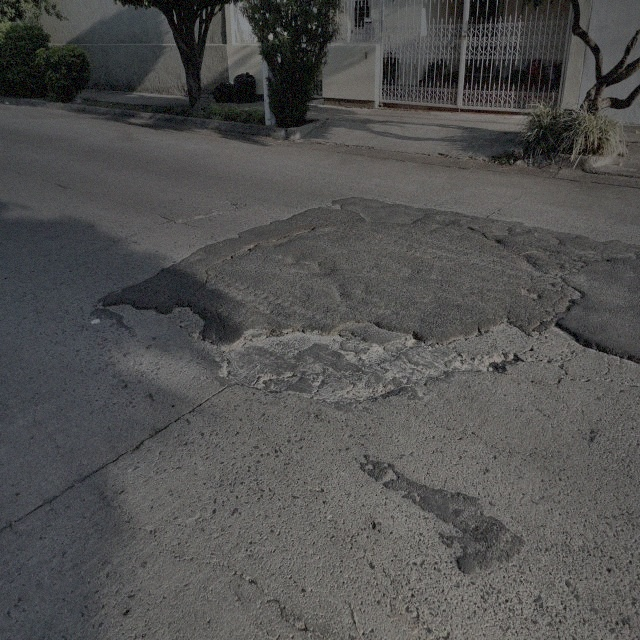pothole: (338, 383, 403, 408), (457, 351, 523, 374), (168, 306, 206, 344), (257, 372, 297, 389), (518, 285, 542, 302), (340, 347, 360, 366), (404, 332, 426, 348), (219, 358, 230, 380), (312, 372, 324, 391), (327, 201, 342, 211)
